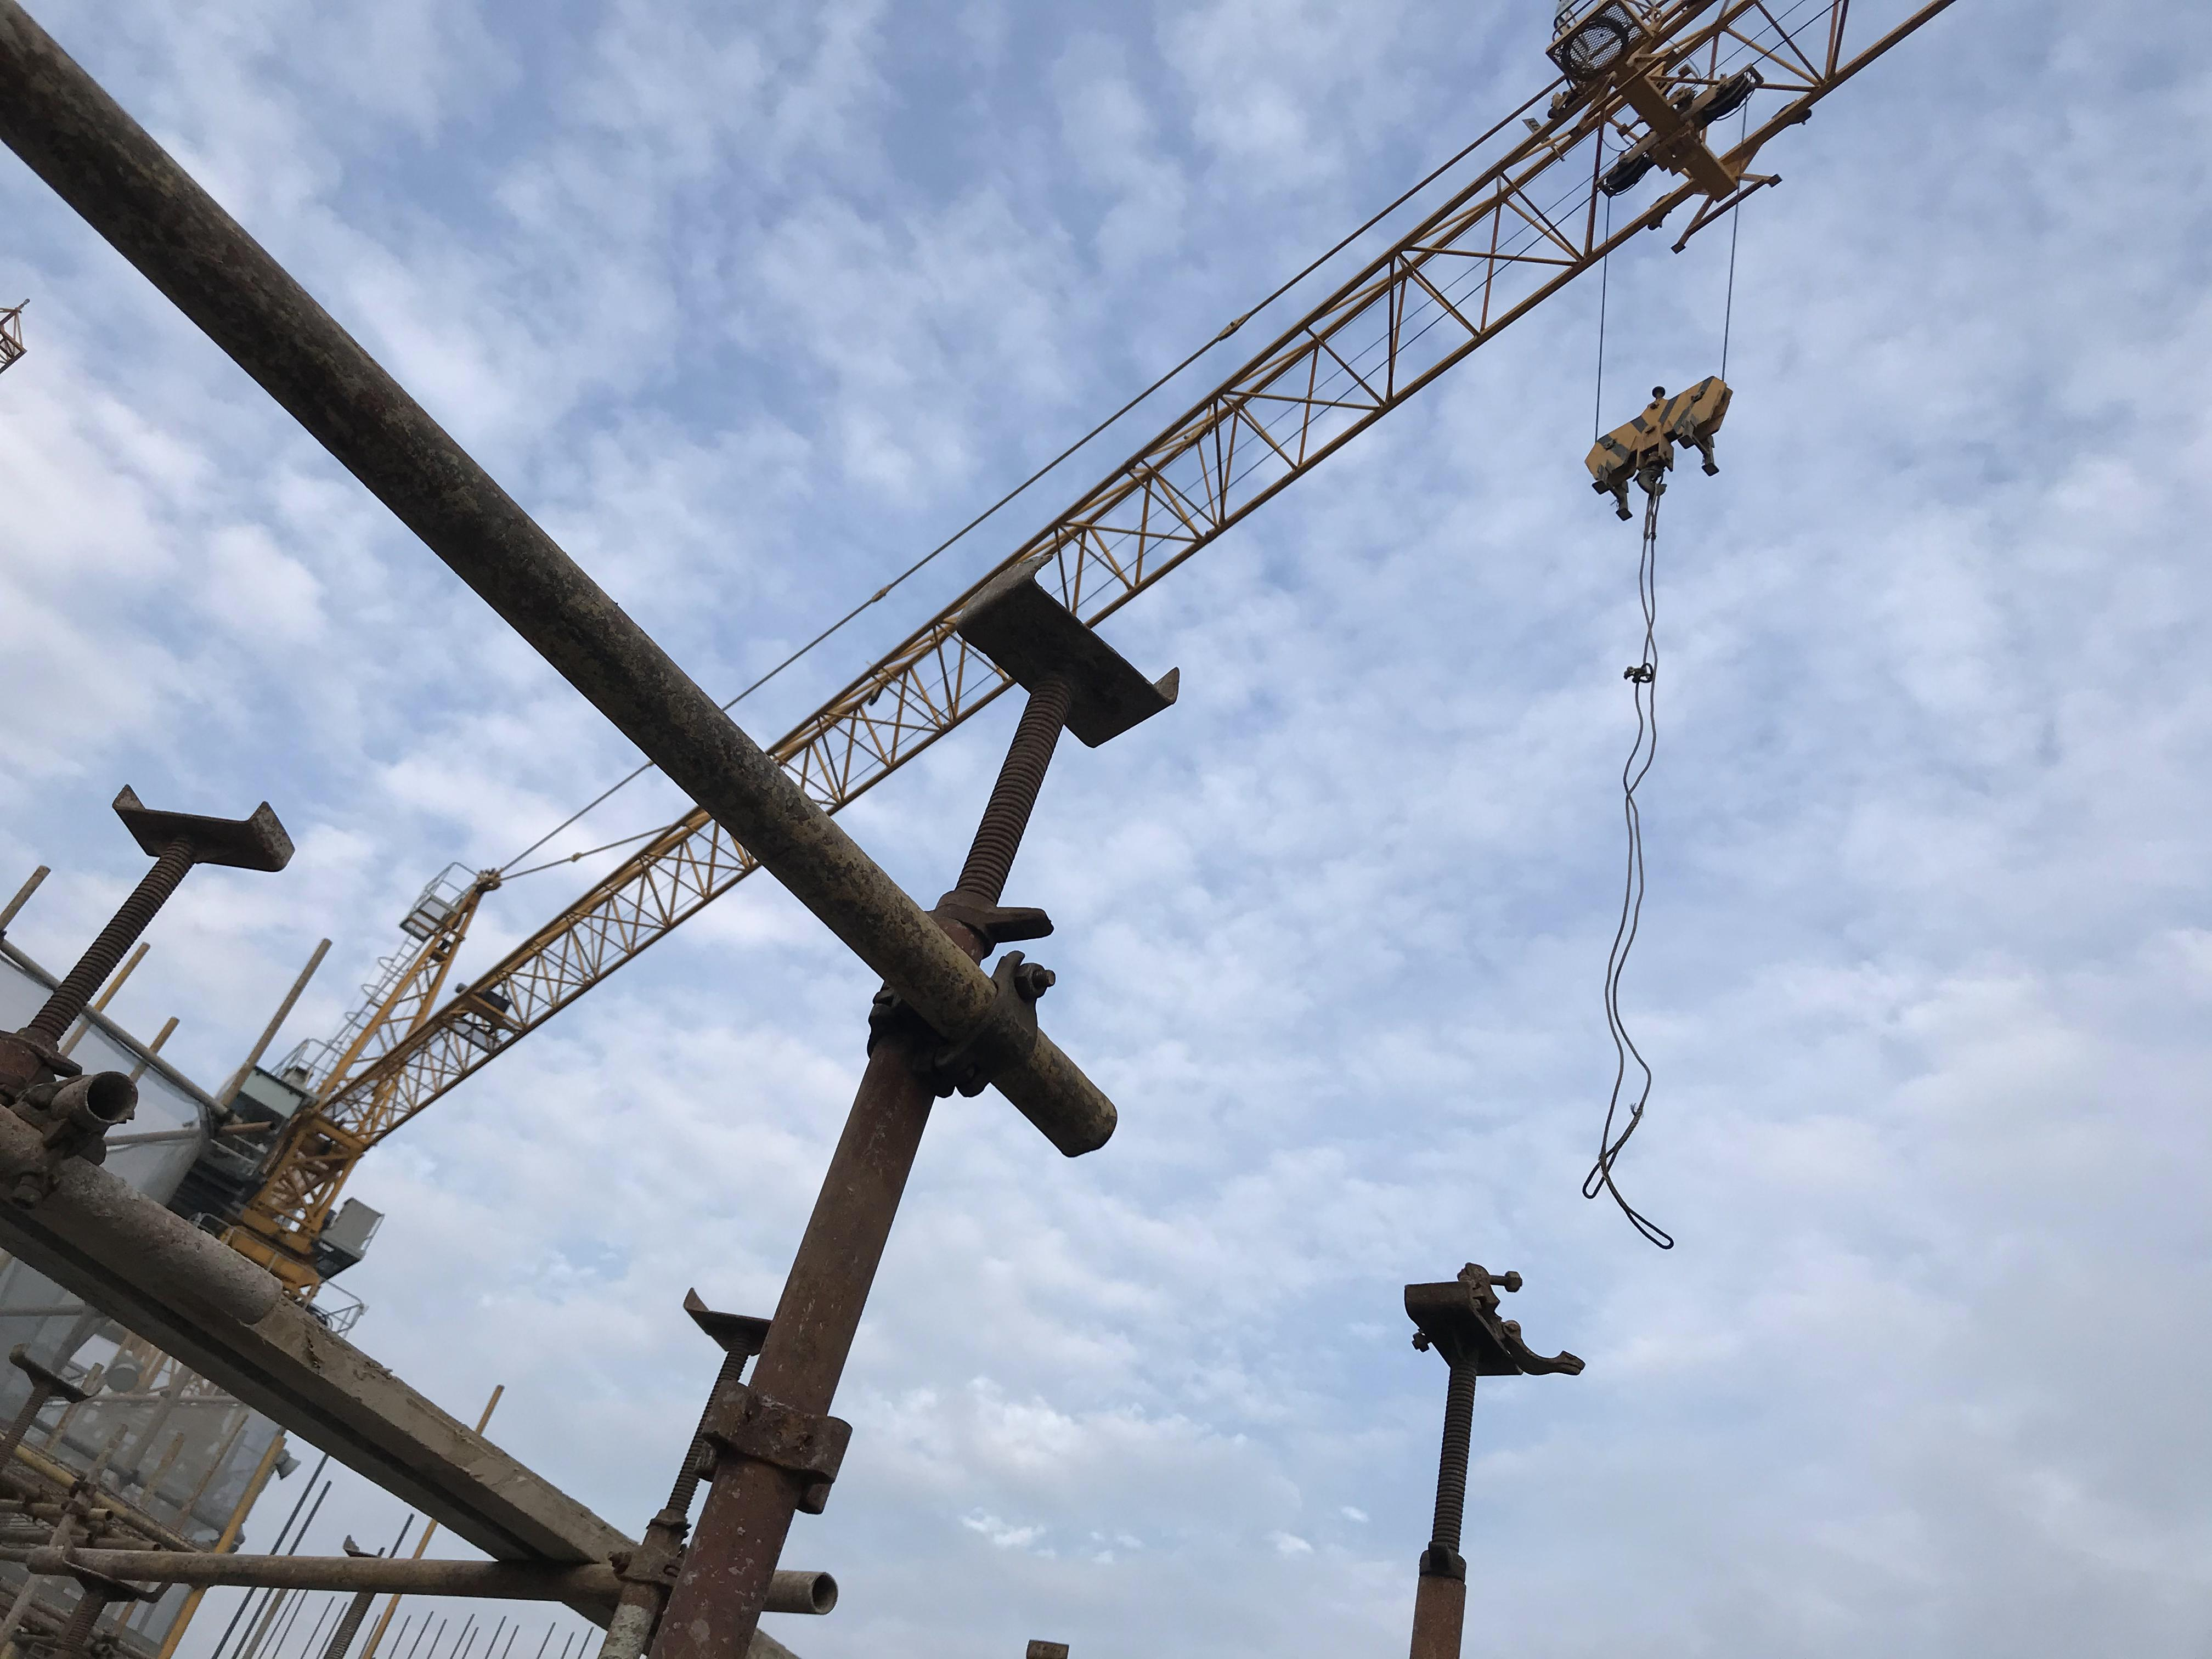hook: (1568, 369, 1743, 507)
